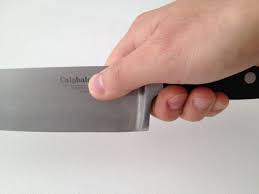knife: (1, 42, 258, 135)
